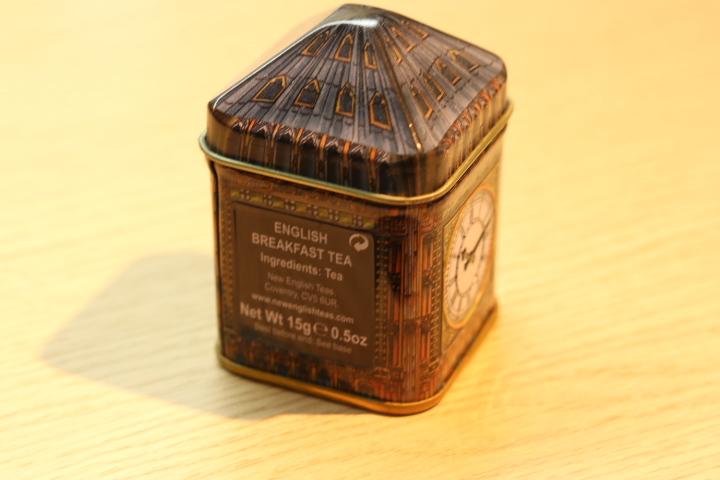Big Ben: (164, 1, 550, 429)
